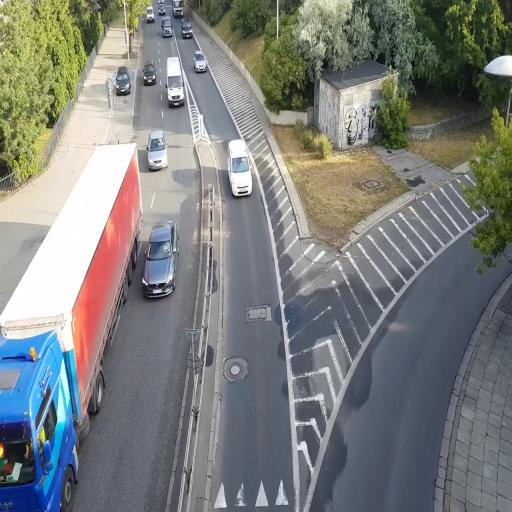vehicle: (0, 142, 143, 509), (0, 145, 144, 509), (141, 222, 178, 299), (227, 139, 253, 197), (147, 130, 167, 170), (167, 67, 185, 108), (114, 68, 130, 96), (143, 60, 157, 84), (194, 52, 206, 74), (182, 22, 194, 39), (162, 21, 173, 37)
